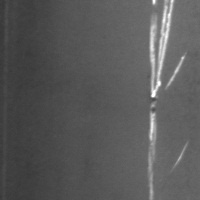scratches: (143, 1, 183, 199)
